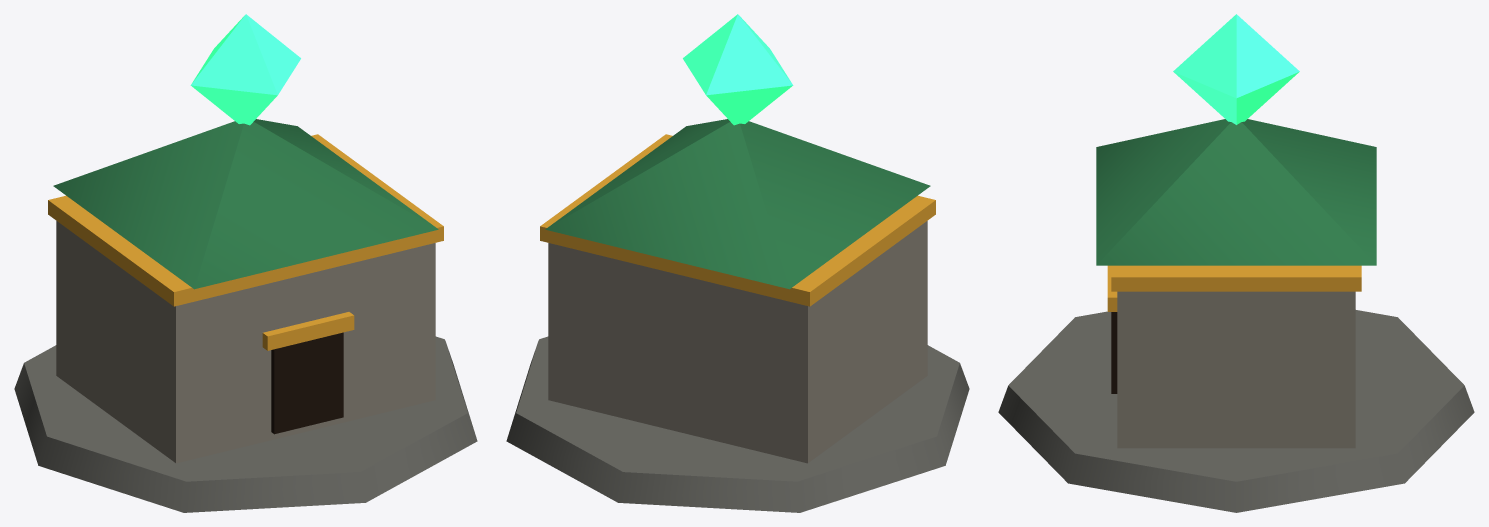
Rendered from level1.glb.
3 renders of one model, left to right at view 1: azimuth 30°, elevation 25°; view 2: azimuth 150°, elevation 25°; view 3: azimuth 270°, elevation 25°, orthographic.
Size of the model in its own units: 2.4 by 2.21 by 2.4.
